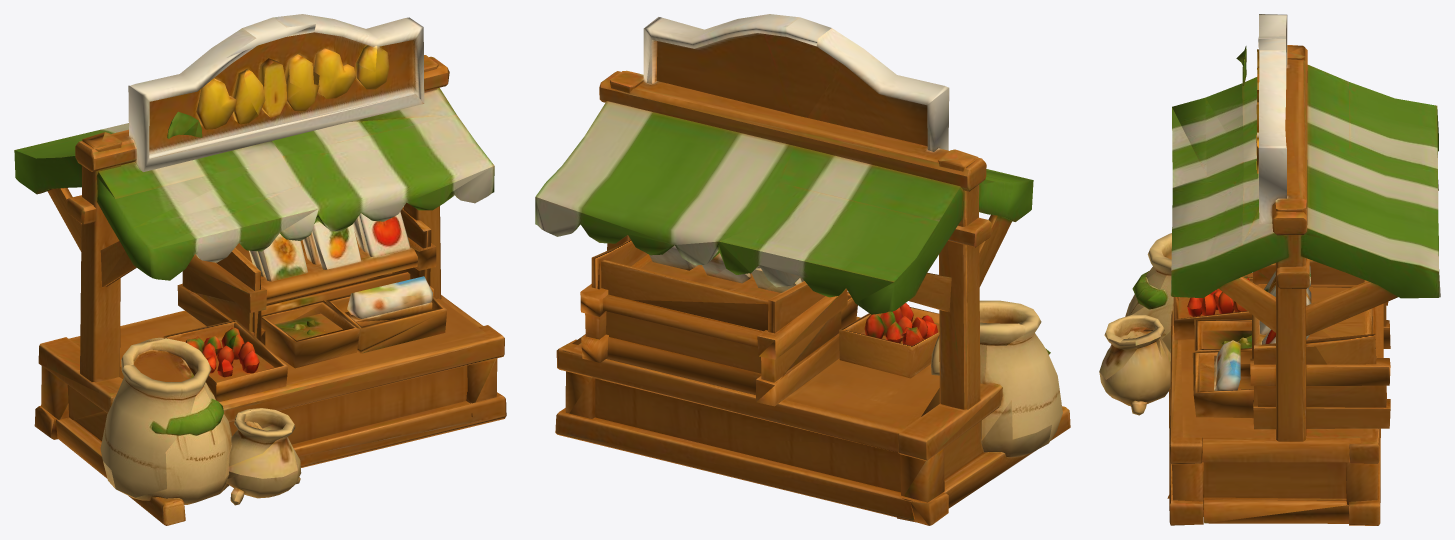
Rendered from shop.glb.
3 views of the same model, side by side, from view 1: azimuth 30°, elevation 25°; view 2: azimuth 150°, elevation 25°; view 3: azimuth 270°, elevation 25° (orthographic). The views are drawn at different scales.
Bounding box in the file's own units: 1 × 0.998 × 0.7852.
Materials: 1 (1 with a texture image).
